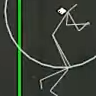hacks_2: (16, 1, 89, 96)
